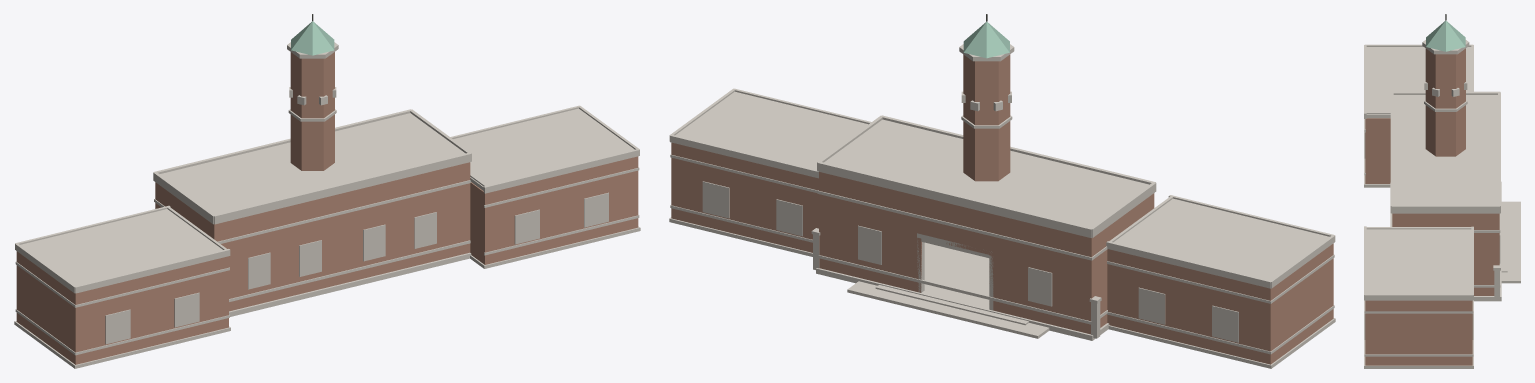
The model's file is cp_zoo.glb.
3 views of the same model, side by side, from view 1: azimuth 30°, elevation 25°; view 2: azimuth 150°, elevation 25°; view 3: azimuth 270°, elevation 25° (orthographic). The views are drawn at different scales.
Visible parts, largest first — view 1: CentralParkZoo; view 2: CentralParkZoo; view 3: CentralParkZoo.
Part boxes in pixels (x1,y1,x2,y2): CentralParkZoo: [14, 14, 640, 368]; CentralParkZoo: [669, 14, 1335, 368]; CentralParkZoo: [1364, 14, 1520, 368].
Bounding box in the file's own units: 44.2 × 18.88 × 11.7.
